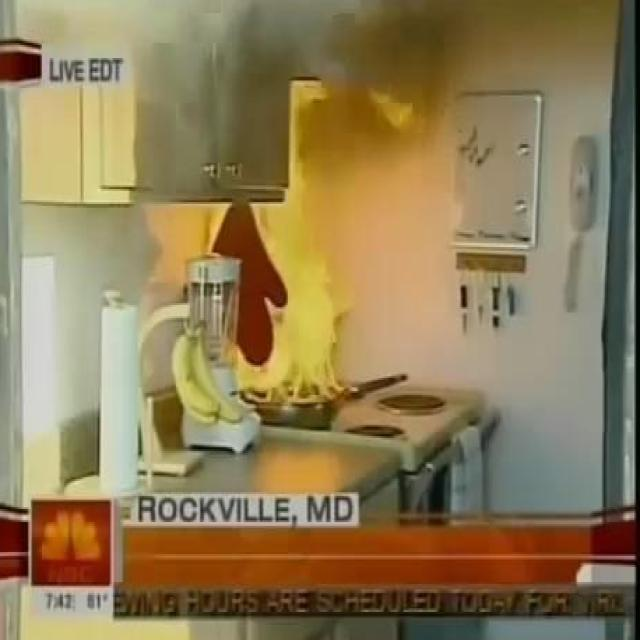fire: (0, 0, 402, 99)
smoke: (214, 76, 341, 398)
